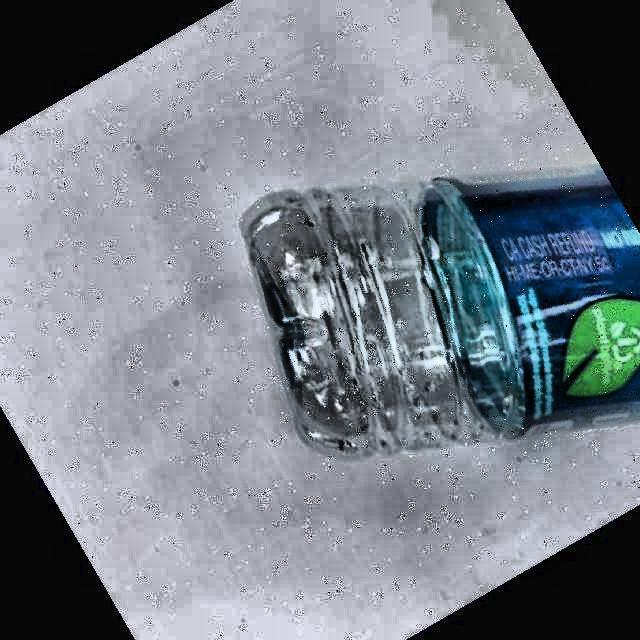plastic: (245, 170, 640, 453)
